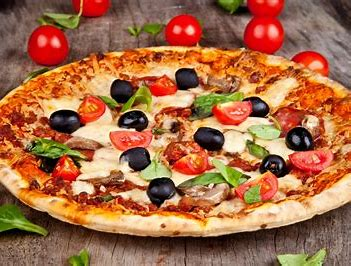inorganic: (14, 4, 351, 264)
